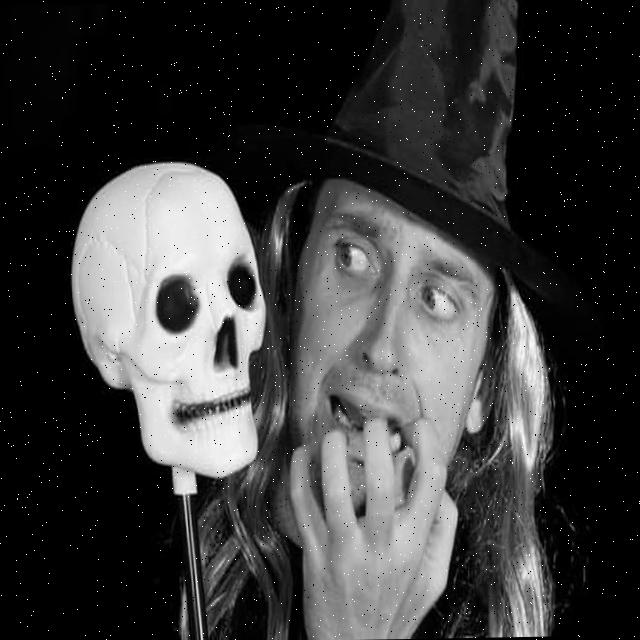Fear: (290, 189, 486, 519)
